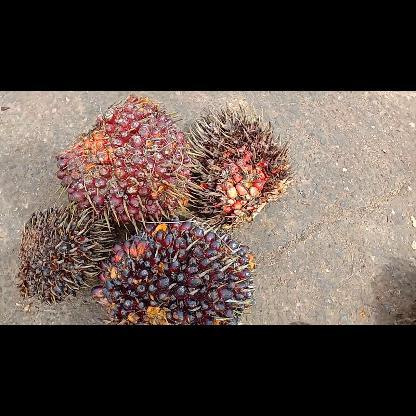Kurang masak: (90, 216, 258, 324)
TBS abnormal: (15, 201, 117, 308)
TBS masak: (54, 94, 193, 228)
Terlalu masak: (185, 101, 297, 228)
